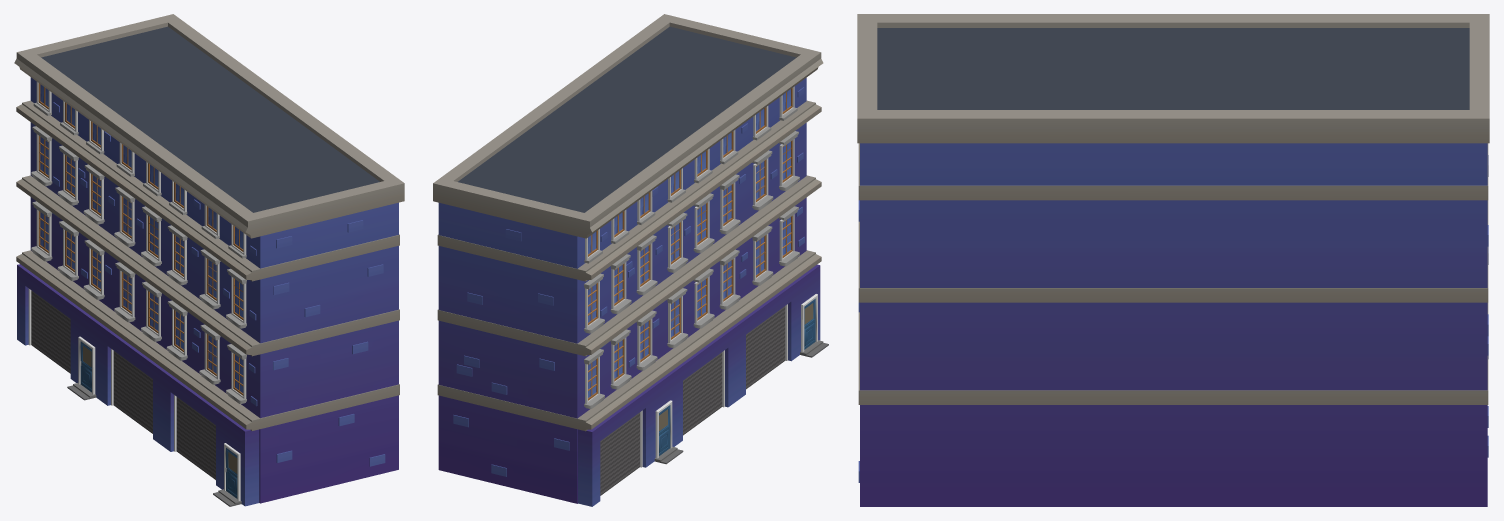
Rendered from Building_20_1_C.fbx.
The picture shows the model from 3 angles, left to right: view 1: azimuth 30°, elevation 25°; view 2: azimuth 150°, elevation 25°; view 3: azimuth 270°, elevation 25°; orthographic projection. The views are drawn at different scales.
Parts seen in each view (by area): view 1: Building_20_1_C; view 2: Building_20_1_C; view 3: Building_20_1_C.
Part boxes in pixels (bbox=[...]): Building_20_1_C: bbox=[14, 14, 404, 506]; Building_20_1_C: bbox=[433, 14, 828, 506]; Building_20_1_C: bbox=[857, 14, 1489, 506].
Bounding box in the file's own units: 774 × 1247 × 1827.
